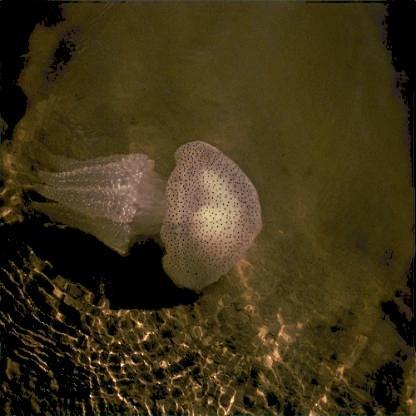Handstand: (30, 144, 264, 286)
